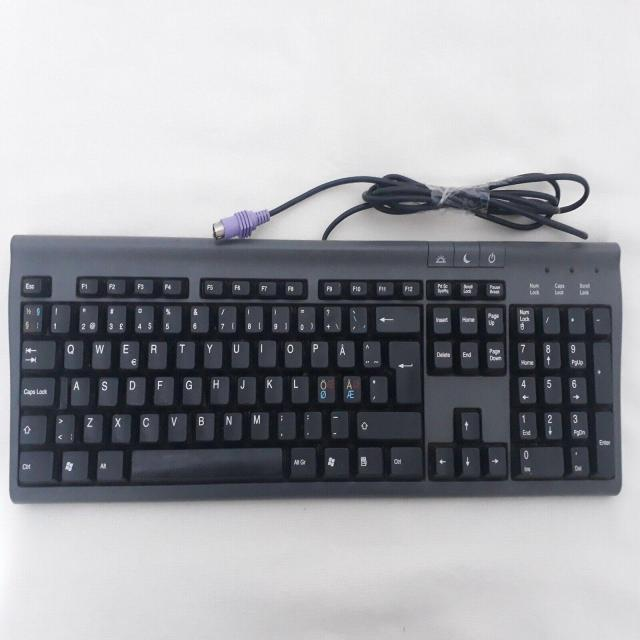keyboard: (10, 230, 624, 502)
